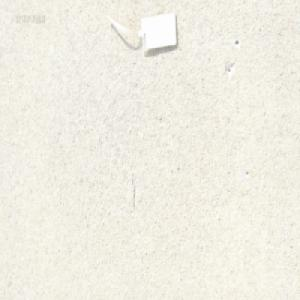LuggageTag: (104, 11, 178, 58)
